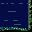Interaction: (25, 0, 32, 32), (0, 25, 25, 32)
Slow: (0, 0, 27, 28)
